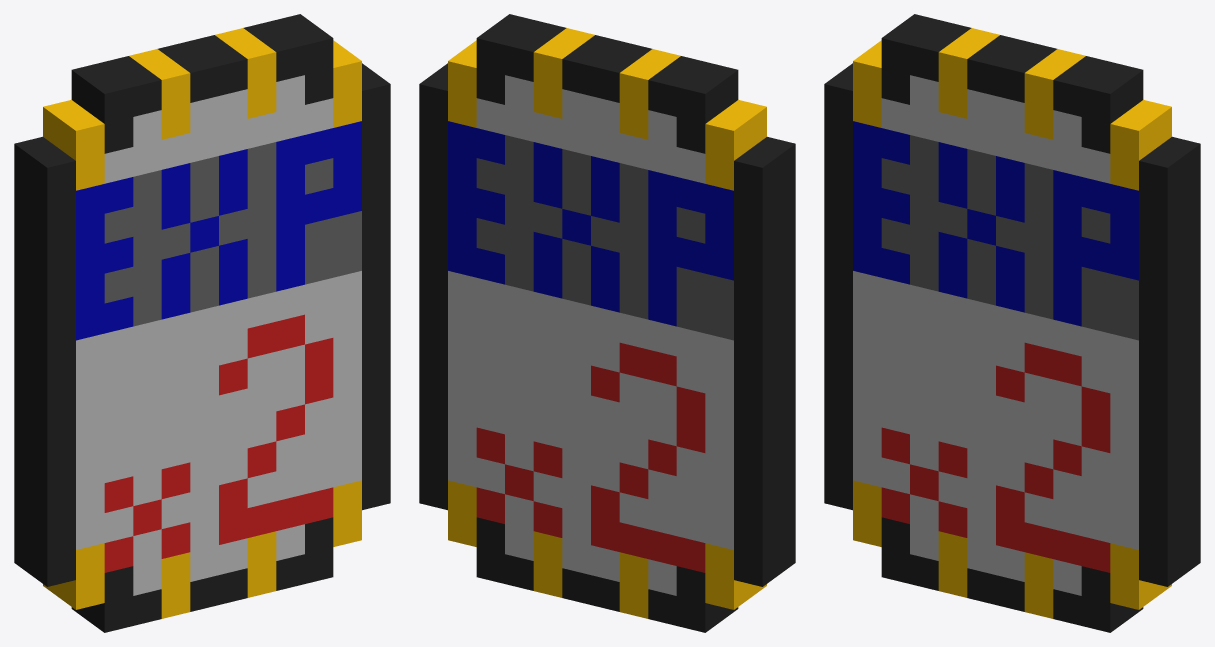
Rendered from DoubleScore.obj.
The picture shows the model from 3 angles, left to right: view 1: azimuth 30°, elevation 25°; view 2: azimuth 150°, elevation 25°; view 3: azimuth 330°, elevation 25°; orthographic projection.
Size of the model in its own units: 1.2 by 1.8 by 0.2.
1 material, 1 textured.
